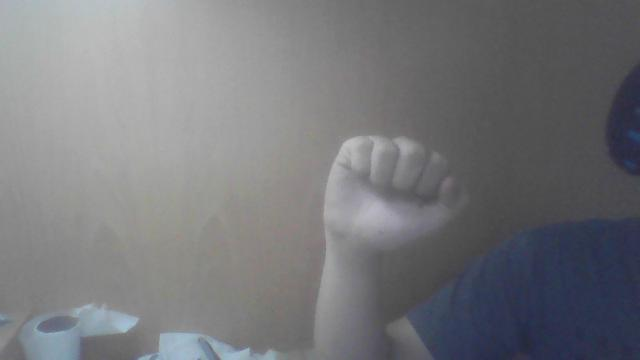forward: (312, 134, 471, 358)
